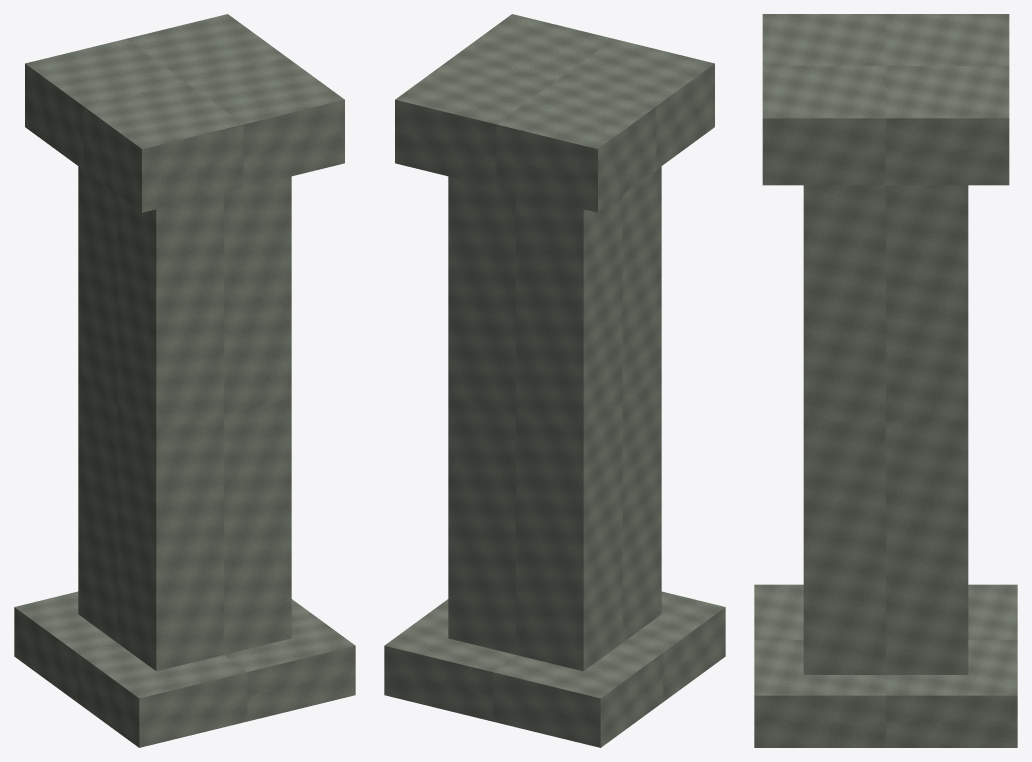
File: ruin.glb
The picture shows the model from 3 angles, left to right: view 1: azimuth 30°, elevation 25°; view 2: azimuth 150°, elevation 25°; view 3: azimuth 270°, elevation 25°; orthographic projection. The views are drawn at different scales.
Visible parts, largest first — view 1: column, column-cap, column-base; view 2: column, column-cap, column-base; view 3: column, column-cap, column-base.
Part boxes in pixels (<box>): column: <box>78,166,291,671</box>; column-cap: <box>25,14,344,212</box>; column-base: <box>14,591,355,747</box>; column: <box>448,166,661,671</box>; column-cap: <box>395,14,714,212</box>; column-base: <box>384,591,725,747</box>; column: <box>803,185,968,674</box>; column-cap: <box>762,14,1009,185</box>; column-base: <box>754,584,1017,747</box>.
Size of the model in its own units: 1.6 by 4.2 by 1.6.
1 material, 1 textured.
